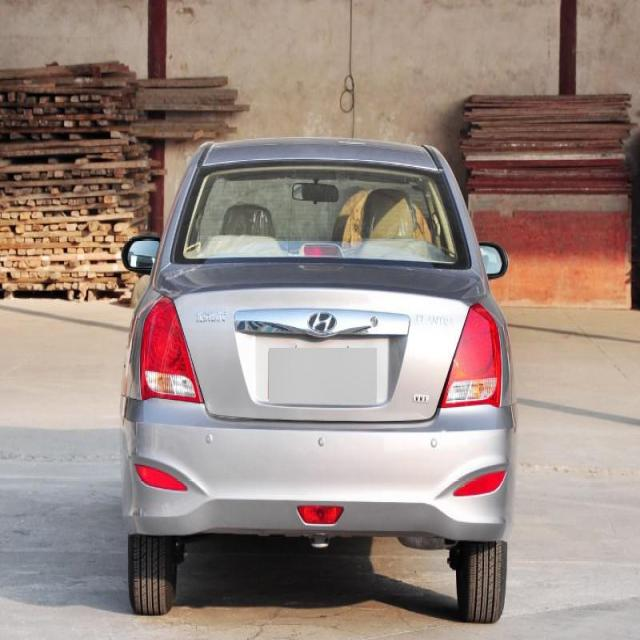back_glass: (170, 159, 472, 269)
back_left_side_light: (138, 292, 206, 407)
back_right_side_light: (438, 300, 504, 413)
front_left_side_mirror: (120, 233, 162, 275)
front_right_side_mirror: (474, 238, 511, 280)
rear_bumper: (120, 392, 515, 542)
wheel: (451, 536, 509, 622), (127, 532, 178, 616)
